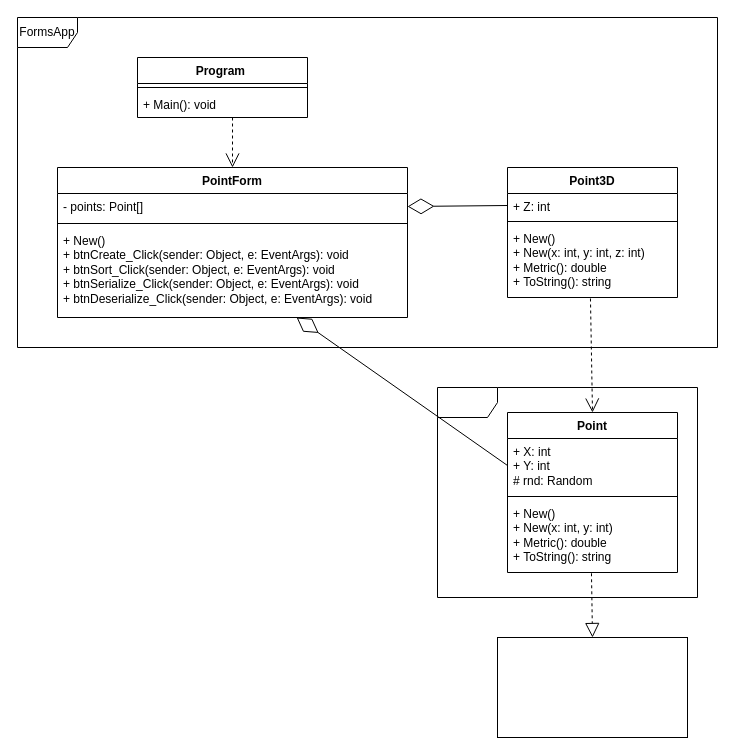
Some shapes in this 735 by 755 pixel diagram are drawn without their labels. The centre of each missing label's shape, as x and y in pixels:
<<Interface>> IComparable + CompareTo( Object obj): int: point (592, 687)
PointLib: point (567, 492)
